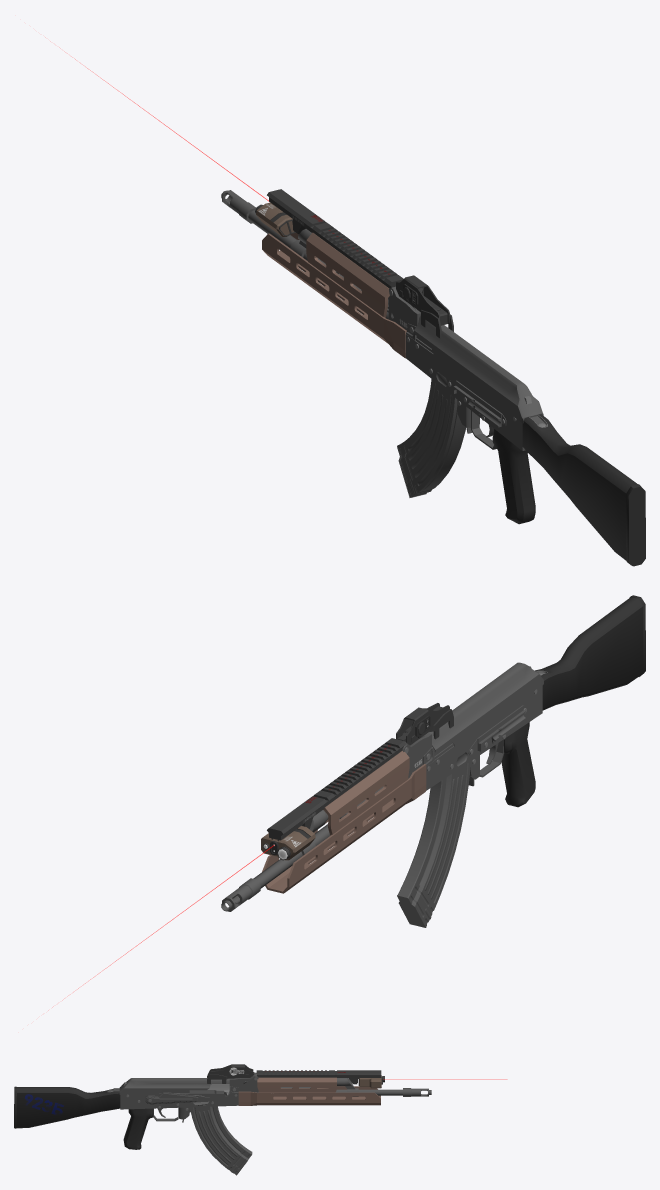
The picture shows the model from 3 angles, top to bottom: view 1: azimuth 30°, elevation 25°; view 2: azimuth 150°, elevation 25°; view 3: azimuth 270°, elevation 25°; orthographic projection. The views are drawn at different scales.
Parts seen in each view (by area): view 1: Stock, Magazine_Base_0, Dust Cover_Base_0, Handguard_lower, Toprail_Addon_0, Handguard_Upper_Addon_0, Grip, LowerReciever_Base_0, StockButt, ReflexFrame, SightBlock, IlluminatorBase_Addon_0; view 2: Stock, Magazine_Base_0, Handguard_lower, Dust Cover_Base_0, Toprail_Addon_0, Handguard_Upper_Addon_0, LowerReciever_Base_0, Grip, ReflexFrame, IlluminatorBase_Addon_0, Barrel, Muzzlebreak (+1 smaller); view 3: Stock, Handguard_lower, Magazine_Base_0, Dust Cover_Base_0, Handguard_Upper_Addon_0, LowerReciever_Base_0, Toprail_Addon_0, Grip, FireSelector_Base_0, ReflexFrame, Barrel, SightBlock (+4 smaller).
Part boxes in pixels (x1,y1,x2,y2): Stock: (522,414,637,560); Magazine_Base_0: (397,379,465,497); Dust Cover_Base_0: (414,315,543,422); Handguard_lower: (262,233,406,358); Toprail_Addon_0: (267,189,403,288); Handguard_Upper_Addon_0: (306,232,389,317); Grip: (492,429,535,524); LowerReciever_Base_0: (405,334,547,450); StockButt: (626,484,645,566); ReflexFrame: (396,275,449,322); SightBlock: (388,286,420,331); IlluminatorBase_Addon_0: (256,202,295,236); Stock: (535,597,643,710); Magazine_Base_0: (397,761,470,927); Handguard_lower: (262,764,426,893); Dust Cover_Base_0: (428,662,543,752); Toprail_Addon_0: (267,738,406,841); Handguard_Upper_Addon_0: (323,751,409,835); LowerReciever_Base_0: (426,672,545,790); Grip: (501,722,535,807); ReflexFrame: (396,703,449,745); IlluminatorBase_Addon_0: (261,826,315,860); Barrel: (253,786,383,888); Muzzlebreak: (221,878,260,911); Stock: (16,1087,120,1128); Handguard_lower: (238,1086,380,1105); Magazine_Base_0: (190,1106,252,1175); Dust Cover_Base_0: (119,1078,229,1094); Handguard_Upper_Addon_0: (257,1077,336,1092); LowerReciever_Base_0: (108,1089,238,1109); Toprail_Addon_0: (256,1070,381,1084); Grip: (123,1108,153,1149); FireSelector_Base_0: (144,1092,209,1105); ReflexFrame: (209,1064,253,1077); Barrel: (258,1087,402,1095); SightBlock: (229,1072,258,1092).
Size of the model in its own units: 10.06 by 45.17 by 239.
Materials: 4 (3 with a texture image).
